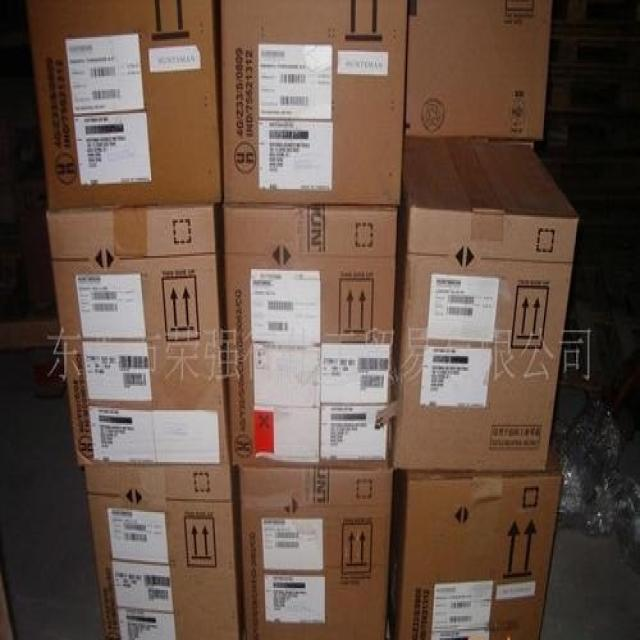box: (386, 136, 578, 471), (45, 203, 231, 467), (221, 203, 397, 465), (27, 2, 223, 212), (219, 1, 408, 203), (387, 446, 563, 638), (234, 444, 393, 638), (85, 463, 240, 638), (406, 1, 552, 138)
